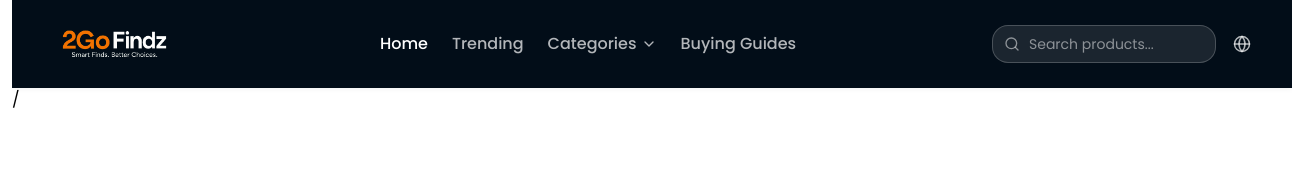
Test: Navbar › opens the categories dropdown and lists fetched categories
Click the button "Categories": point(602, 44) [548,31,656,57]
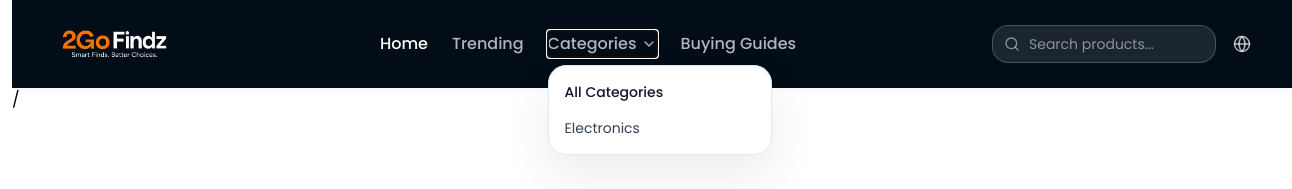
Check: the menu item "Electronics" is shown, box [565,118,640,138]
